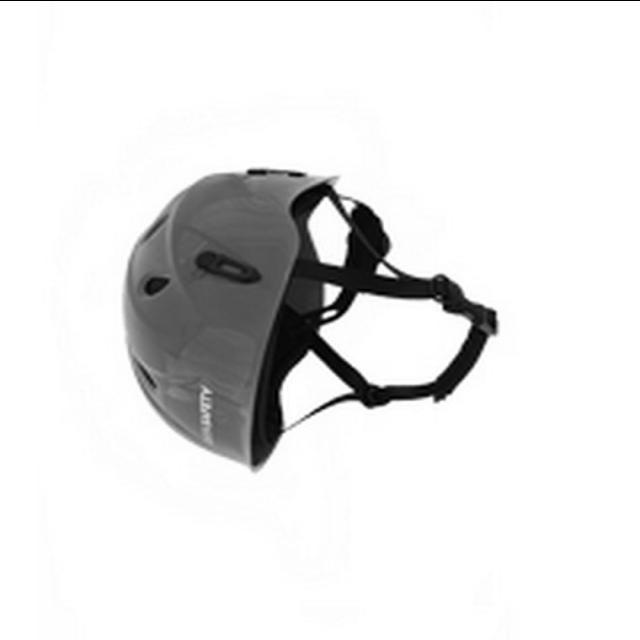safety_helmet: (124, 166, 500, 471)
